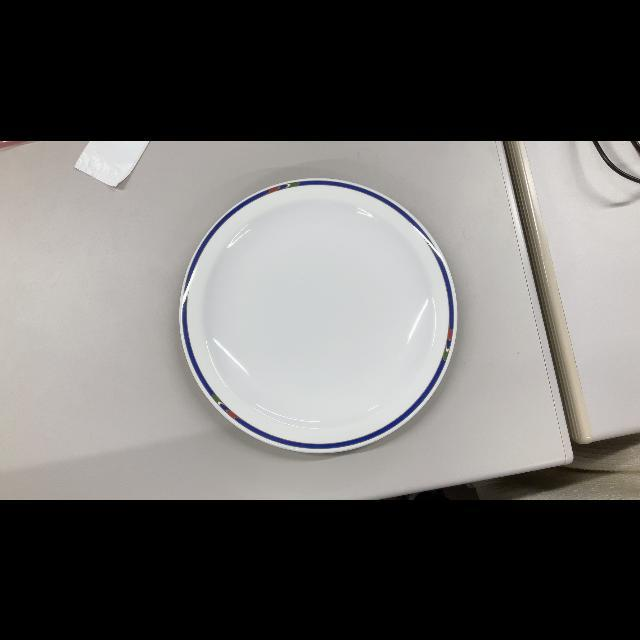plate: (175, 172, 461, 458)
